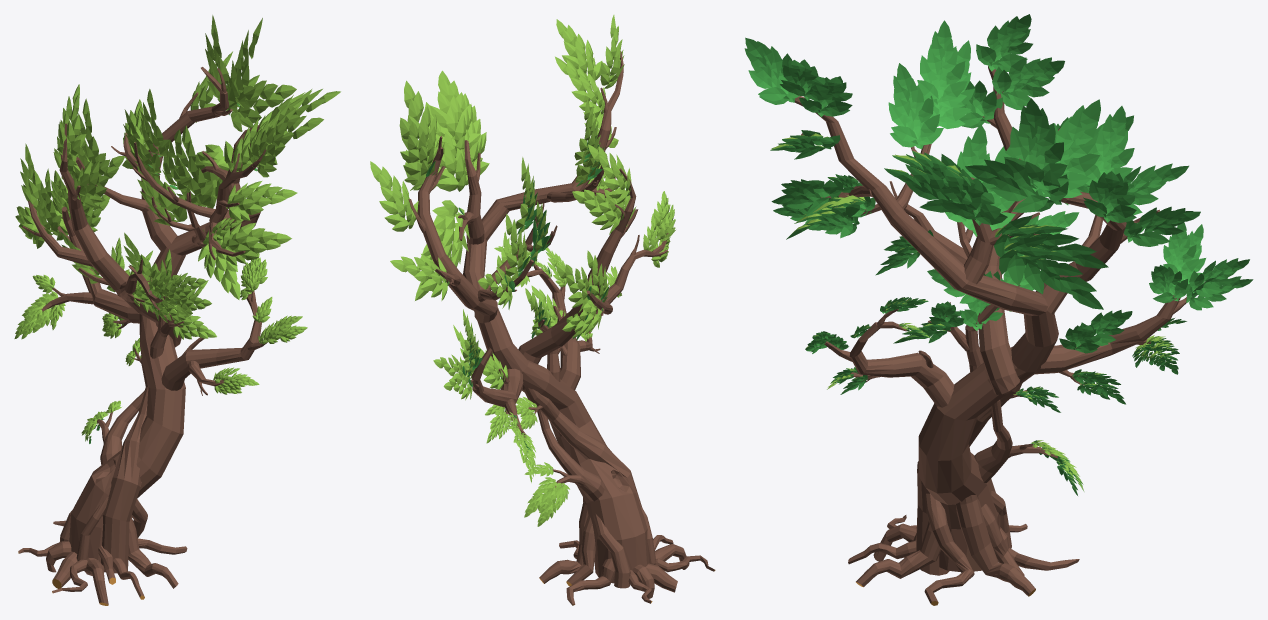
Rendered from tree2-transformed.glb.
The picture shows the model from 3 angles, left to right: view 1: azimuth 30°, elevation 25°; view 2: azimuth 150°, elevation 25°; view 3: azimuth 270°, elevation 25°; orthographic projection. The views are drawn at different scales.
Parts seen in each view (by area): view 1: group1406566609; view 2: group1406566609; view 3: group1406566609.
Part boxes in pixels (x1=…): group1406566609: x1=14, y1=15, x2=340, y2=605; group1406566609: x1=370, y1=15, x2=715, y2=605; group1406566609: x1=744, y1=14, x2=1253, y2=605.
Size of the model in its own units: 1.43 by 2.38 by 1.83.
